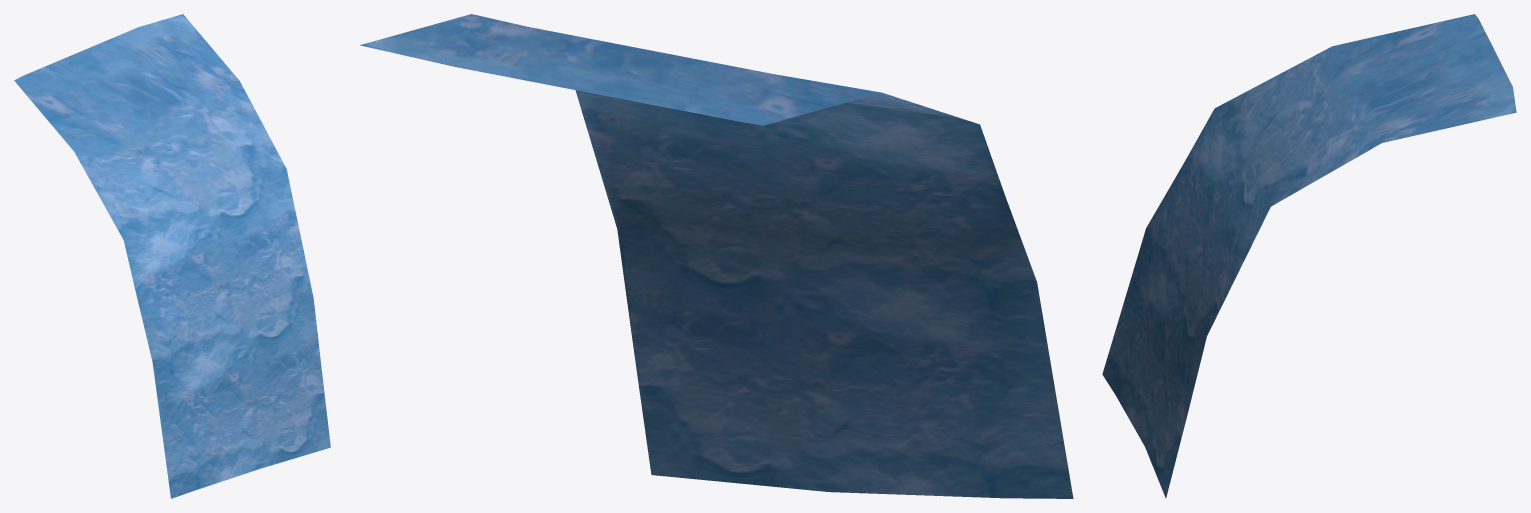
Rendered from IceA2.fbx.
The picture shows the model from 3 angles, left to right: view 1: azimuth 30°, elevation 25°; view 2: azimuth 150°, elevation 25°; view 3: azimuth 270°, elevation 25°; orthographic projection. The views are drawn at different scales.
Parts seen in each view (by area): view 1: IceA2; view 2: IceA2; view 3: IceA2.
Boxes of the visible parts, x1,y1,x2,y2 form: IceA2: (14, 14, 330, 498); IceA2: (360, 14, 1073, 498); IceA2: (1102, 14, 1516, 498).
Size of the model in its own units: 888 by 1479 by 1437.
